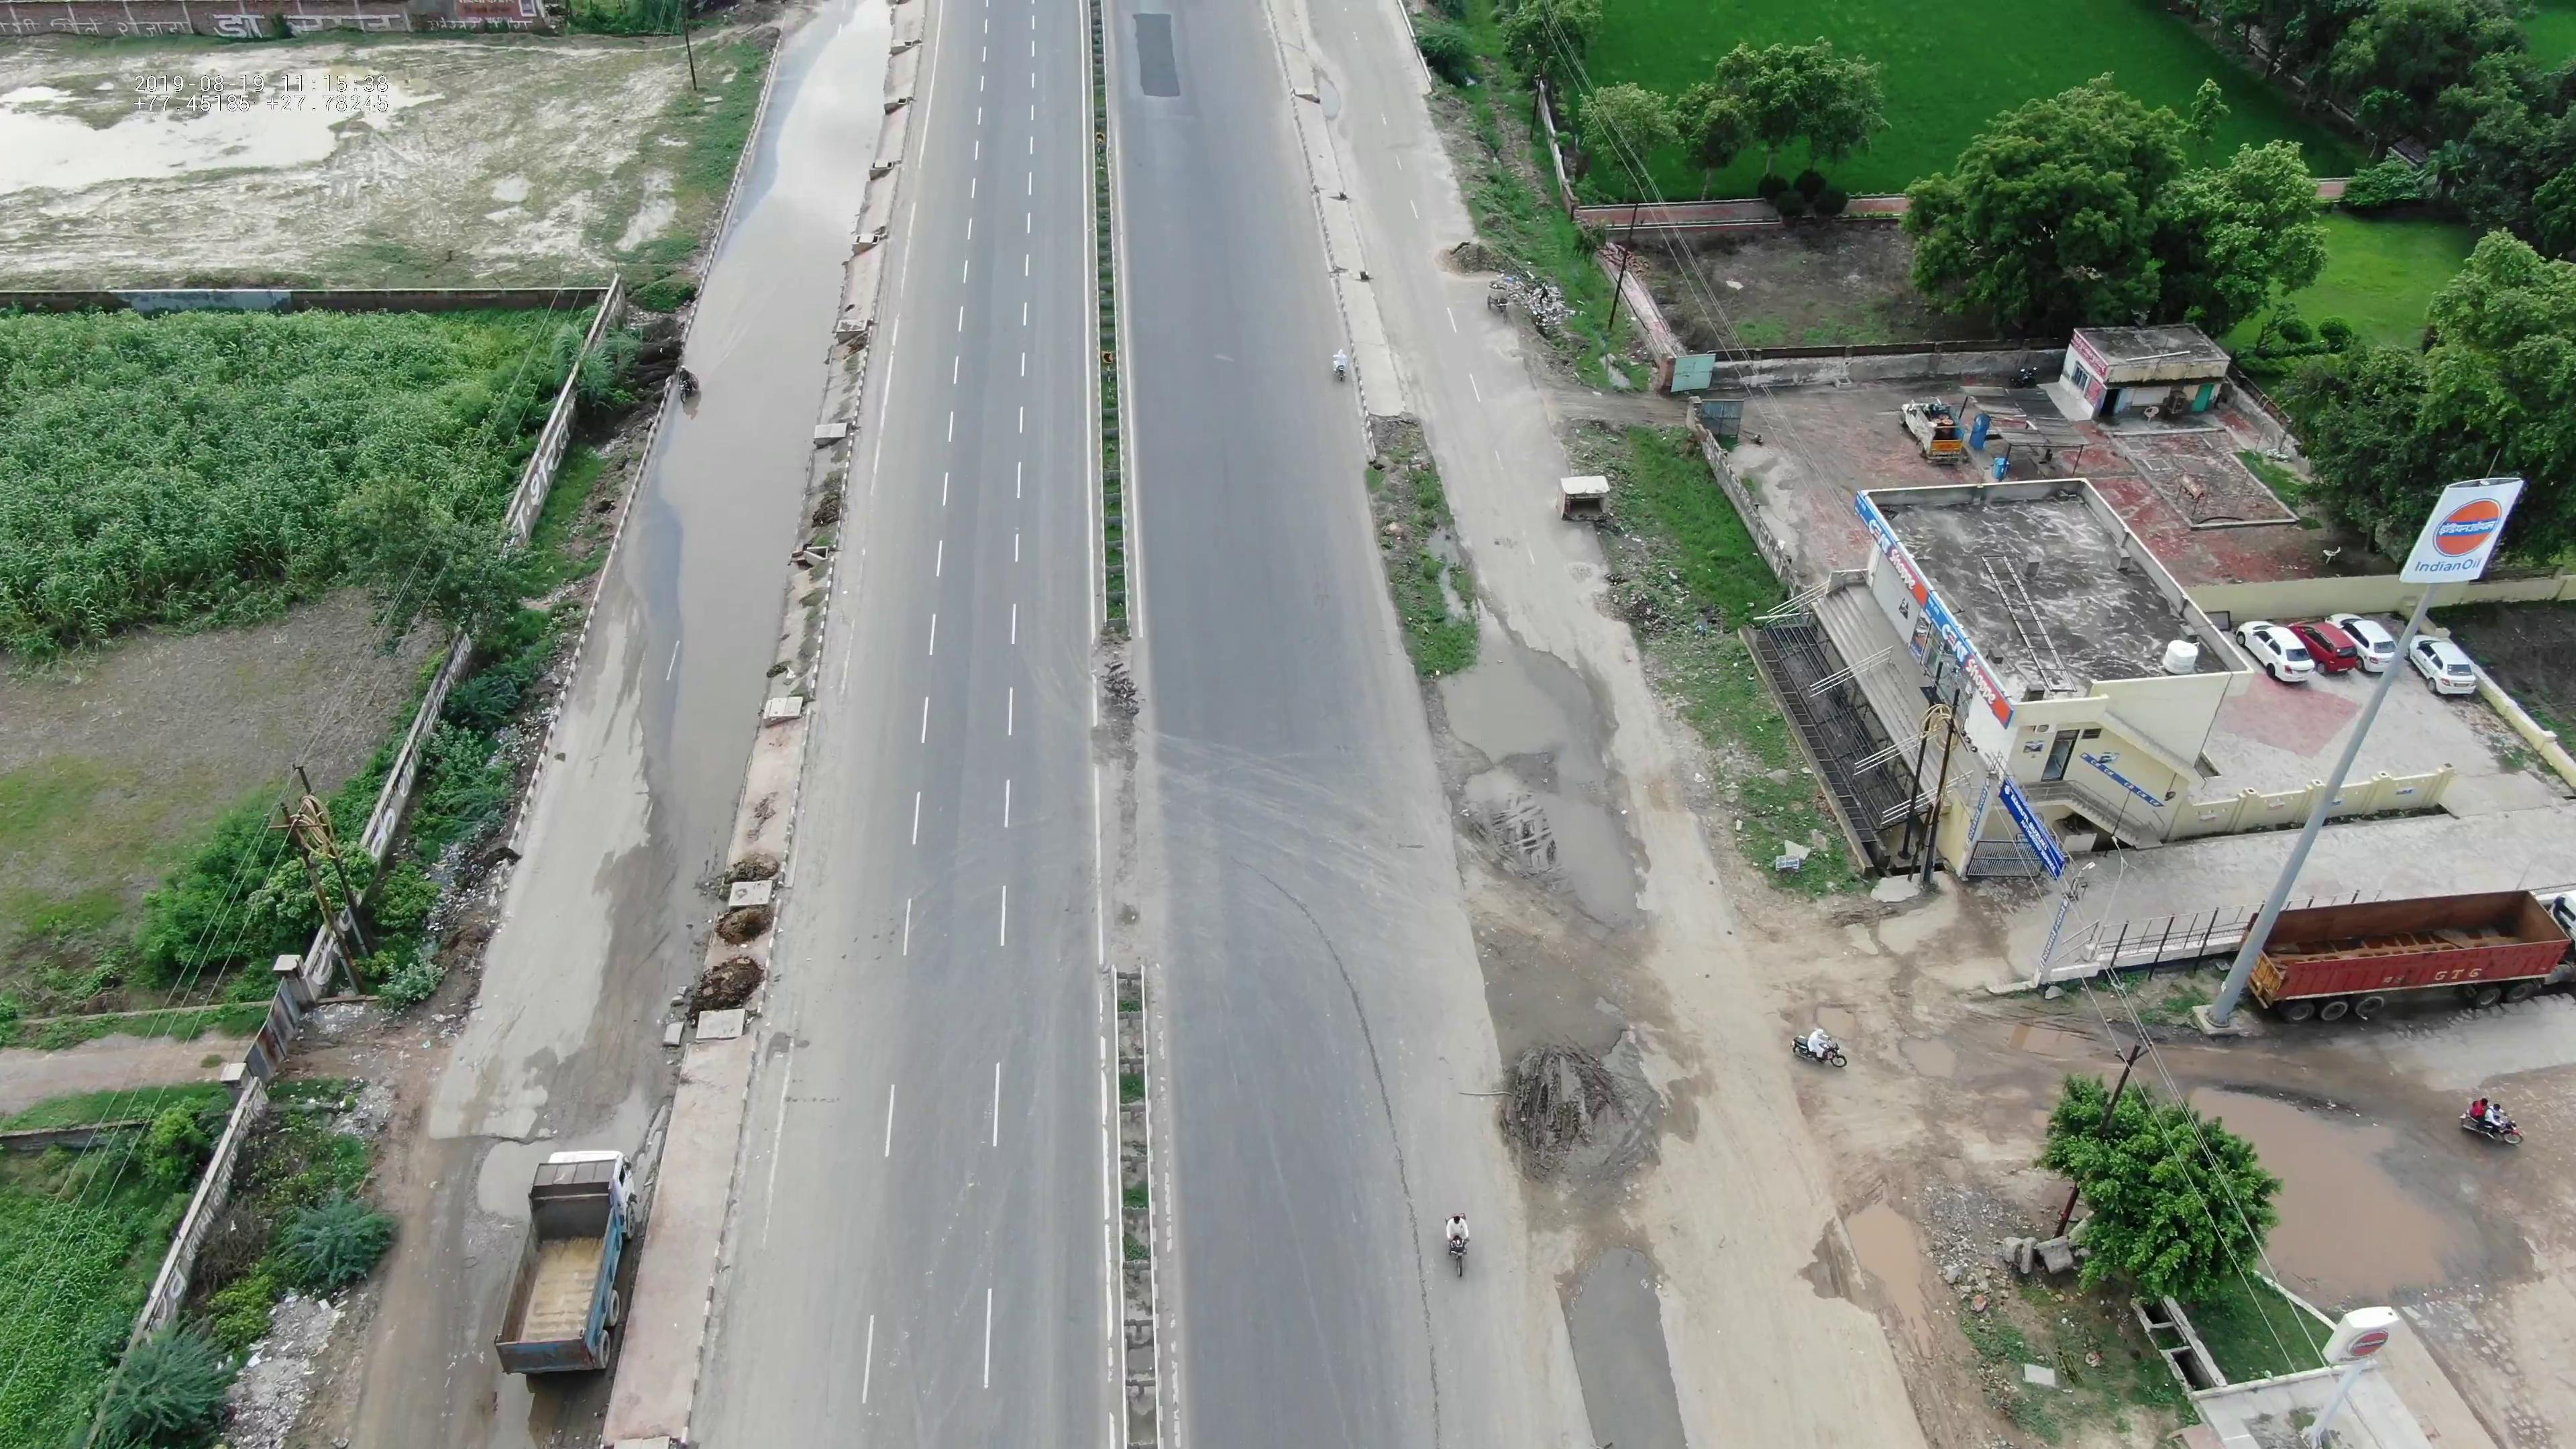Waterlogging: (653, 170, 867, 777)
